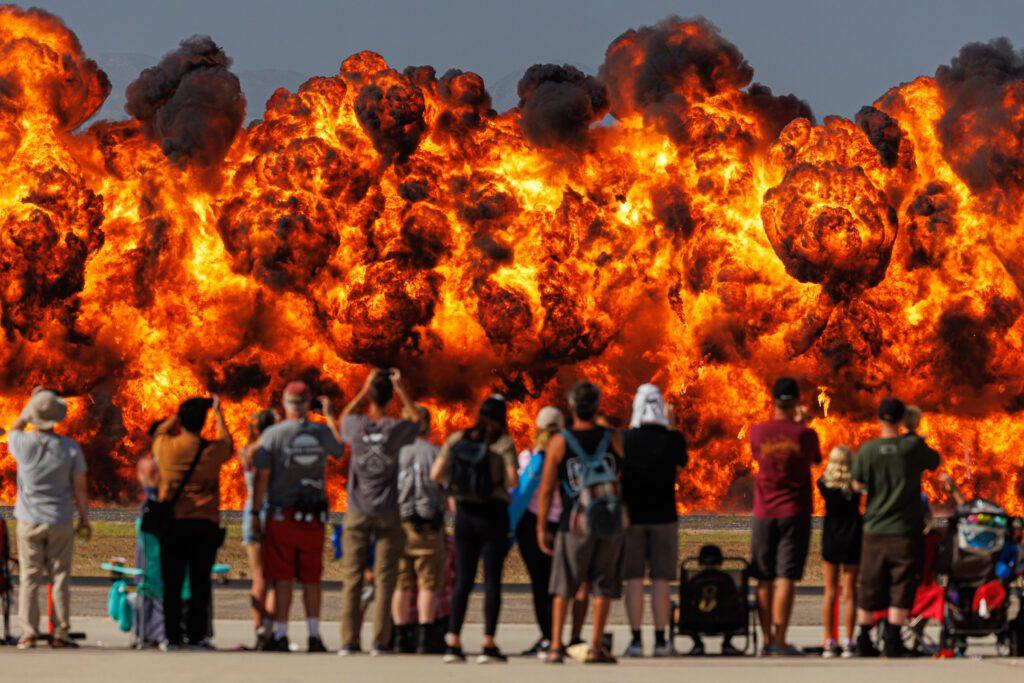fire: (146, 95, 1023, 679), (5, 17, 142, 410)
